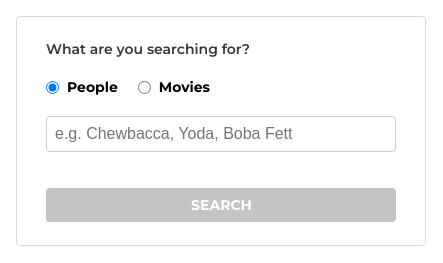
Test: Search Component › disables the search button when input is empty
Expected: the button "SEARCH" is disabled, [46,188,396,222]
Type "test" into the field with placeholder "e.g. Chewbacca, Yoda, Boba Fett" at (221, 134), box [46,116,396,152]
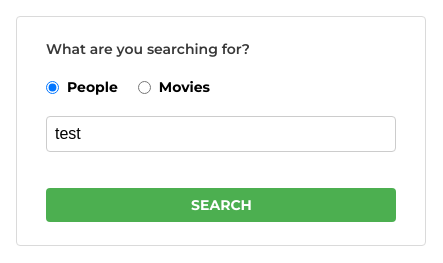
Expected: the button "SEARCH" is enabled, [46,188,396,222]
Clear the field with placeholder "e.g. Chewbacca, Yoda, Boba Fett" at (221, 134), box [46,116,396,152]
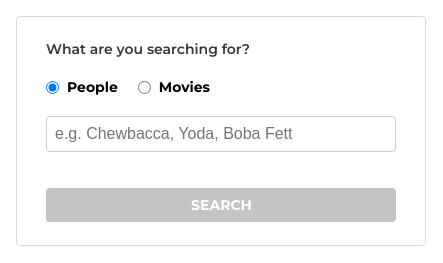
Expected: the button "SEARCH" is disabled, [46,188,396,222]
